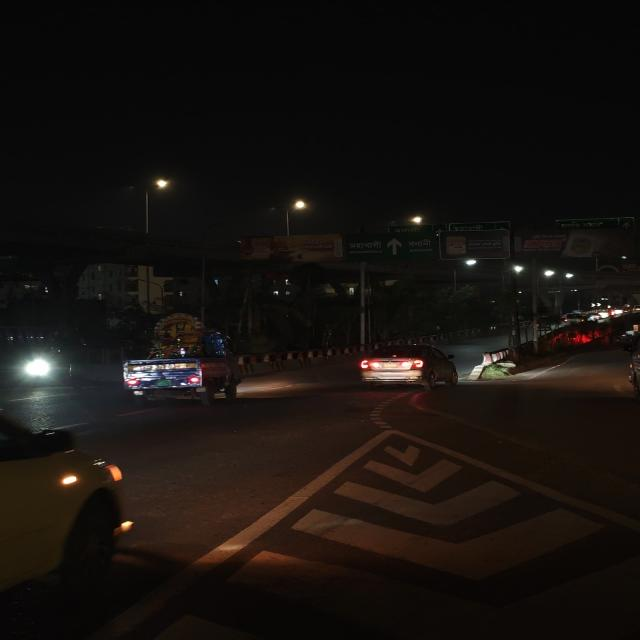car: (356, 341, 461, 389), (563, 312, 586, 324)
motorcycle: (466, 346, 522, 380)
pickup_van: (116, 313, 242, 407)
